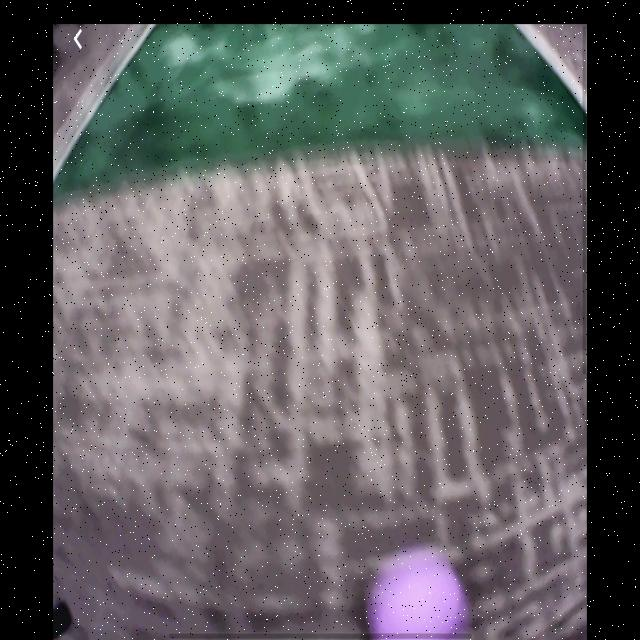ball: (364, 544, 468, 640)
